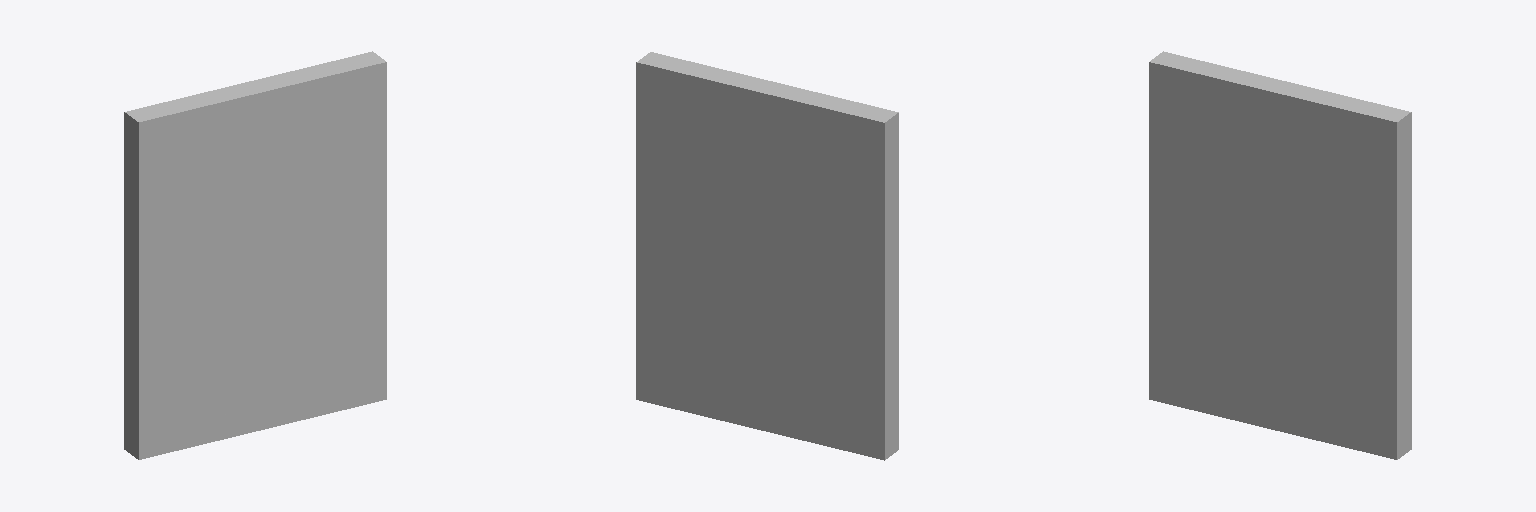
Rendered from polaroid3.obj.
3 views of the same model, side by side, from view 1: azimuth 30°, elevation 25°; view 2: azimuth 150°, elevation 25°; view 3: azimuth 330°, elevation 25° (orthographic).
Parts seen in each view (by area): view 1: Plane, Cube, Text; view 2: Cube; view 3: Plane, Cube, Text.
Boxes of the visible parts, x1=… form: Plane: x1=151, y1=78, x2=374, y2=365; Cube: x1=124, y1=51, x2=386, y2=459; Text: x1=210, y1=356, x2=314, y2=419; Cube: x1=636, y1=52, x2=898, y2=460; Plane: x1=1162, y1=78, x2=1384, y2=365; Cube: x1=1149, y1=51, x2=1411, y2=459; Text: x1=1219, y1=345, x2=1323, y2=431.
Size of the model in its own units: 2 by 2.6 by 0.2071.